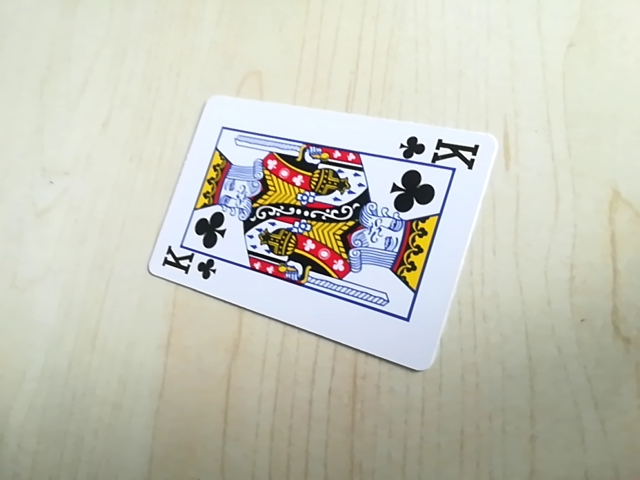mh k: (395, 132, 485, 168), (158, 251, 220, 283)
